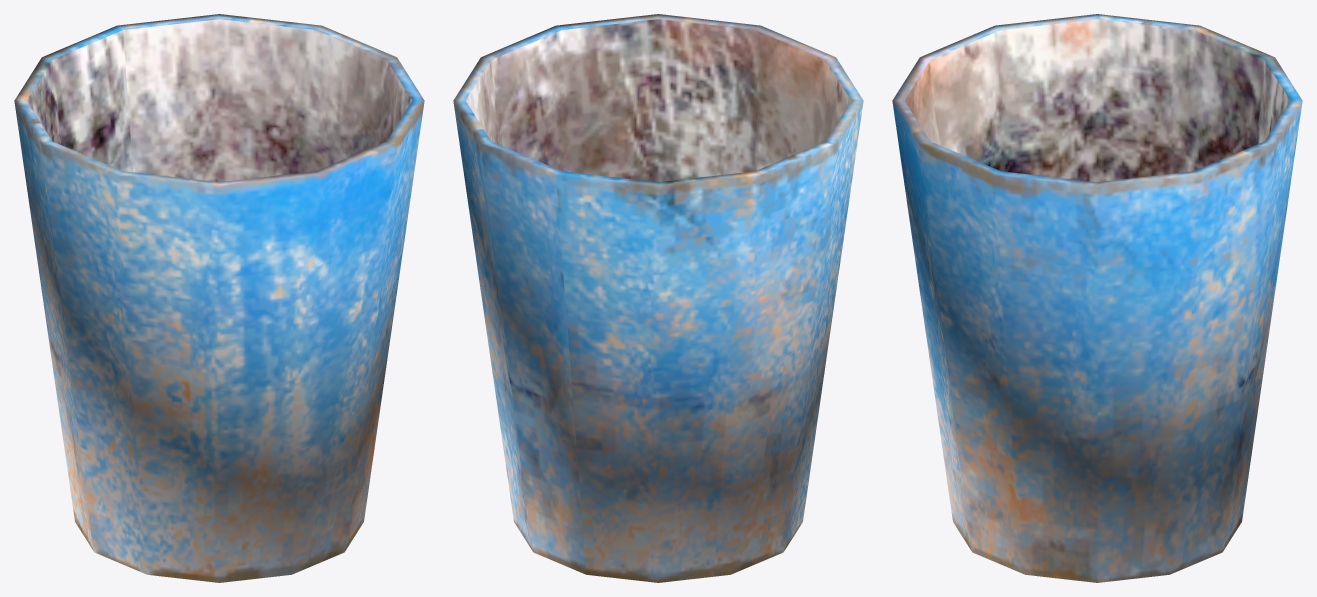
The model's file is tincanVase04.FBX.
3 renders of one model, left to right at view 1: azimuth 30°, elevation 25°; view 2: azimuth 150°, elevation 25°; view 3: azimuth 270°, elevation 25°, orthographic.
Visible parts, largest first — view 1: SM_TinCanVase04; view 2: SM_TinCanVase04; view 3: SM_TinCanVase04.
Part boxes in pixels (x1,y1,x2,y2): SM_TinCanVase04: (14,14,424,582); SM_TinCanVase04: (453,14,863,582); SM_TinCanVase04: (892,14,1302,582).
Bounding box in the file's own units: 18.22 × 20.64 × 18.22.
1 material, 1 textured.
